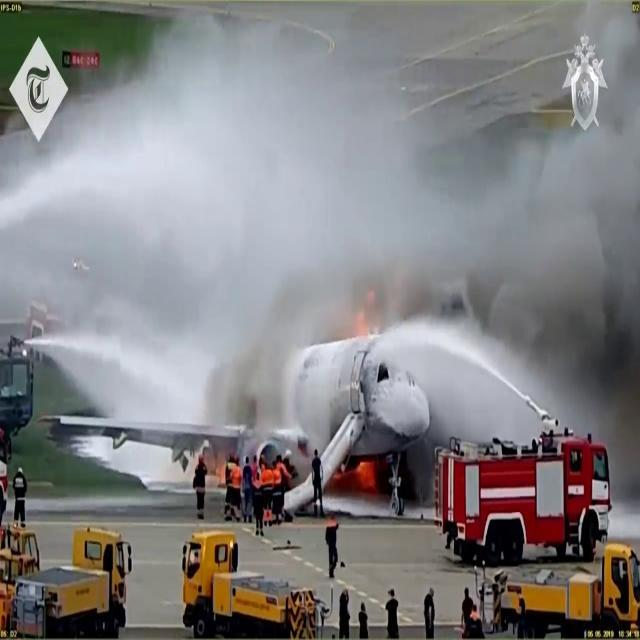Fire: (350, 454, 380, 496)
Smoke: (199, 11, 640, 437)
